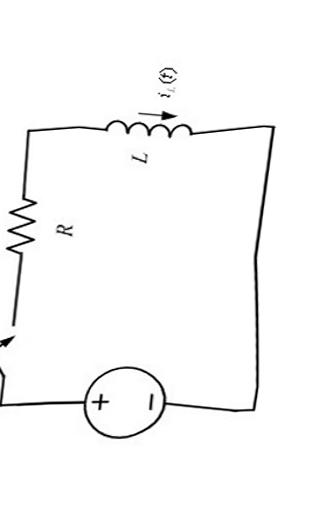Battery: (66, 345, 180, 462)
